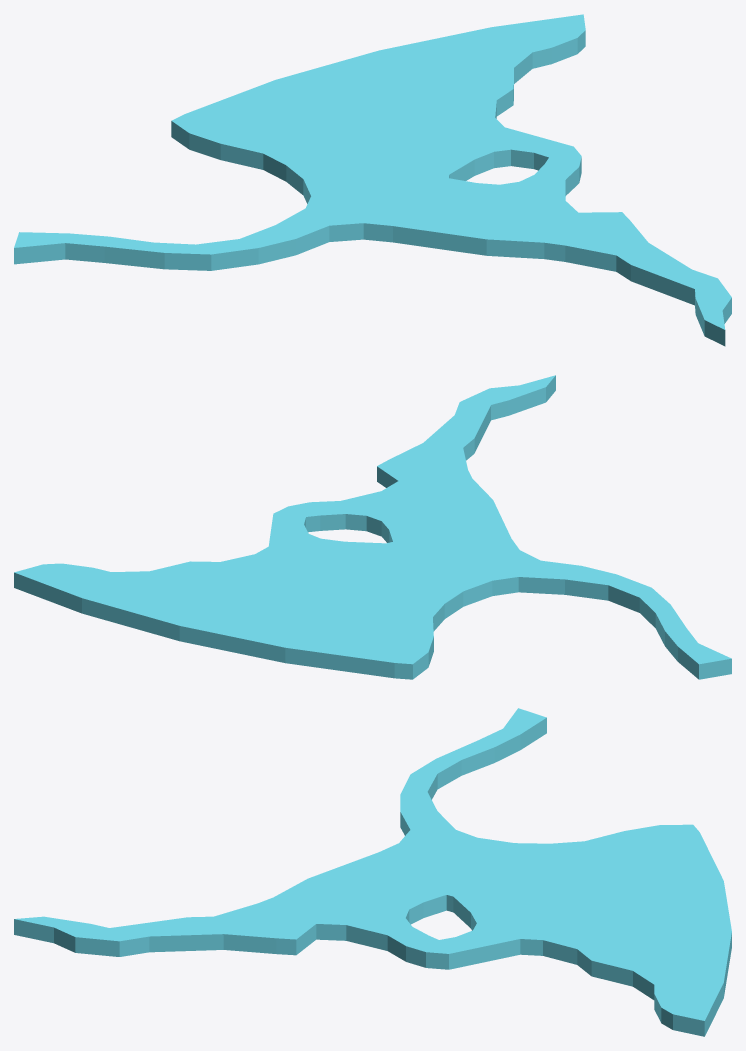
The model's file is enviBlocked_waterbody.fbx.
3 views of the same model, one above another, from view 1: azimuth 30°, elevation 25°; view 2: azimuth 150°, elevation 25°; view 3: azimuth 270°, elevation 25° (orthographic). The views are drawn at different scales.
Parts seen in each view (by area): view 1: water; view 2: water; view 3: water.
Boxes of the visible parts, x1,y1,x2,y2 form: water: (14,14,731,346); water: (14,375,731,679); water: (14,708,731,1036).
Size of the model in its own units: 7966 by 188 by 7723.
